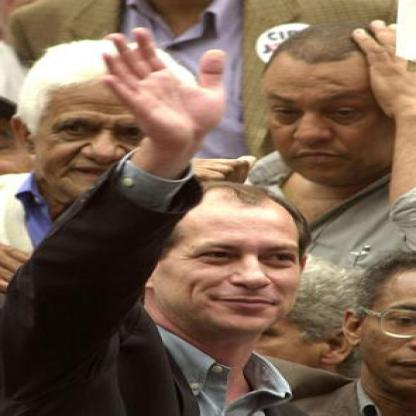face: (156, 184, 314, 339), (257, 38, 404, 185), (28, 55, 174, 199), (2, 1, 3, 2)
